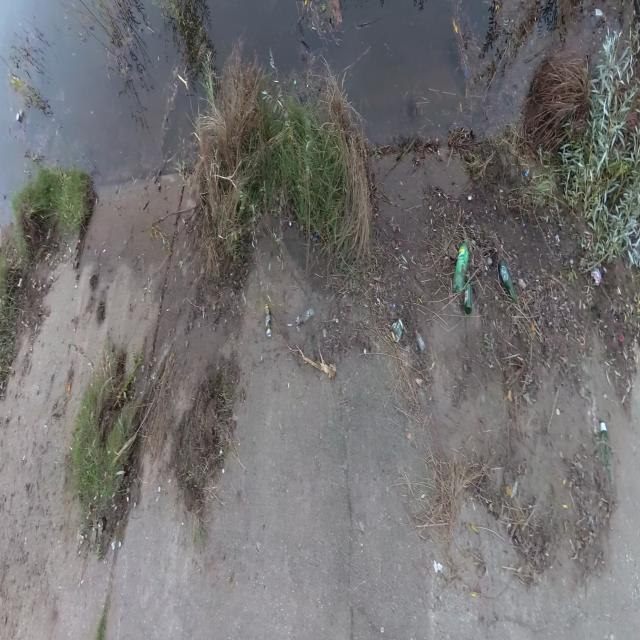rubbish: (451, 236, 469, 294), (498, 257, 516, 303), (295, 303, 315, 326), (389, 317, 405, 344), (465, 272, 472, 314), (264, 304, 272, 338), (415, 330, 426, 352)
